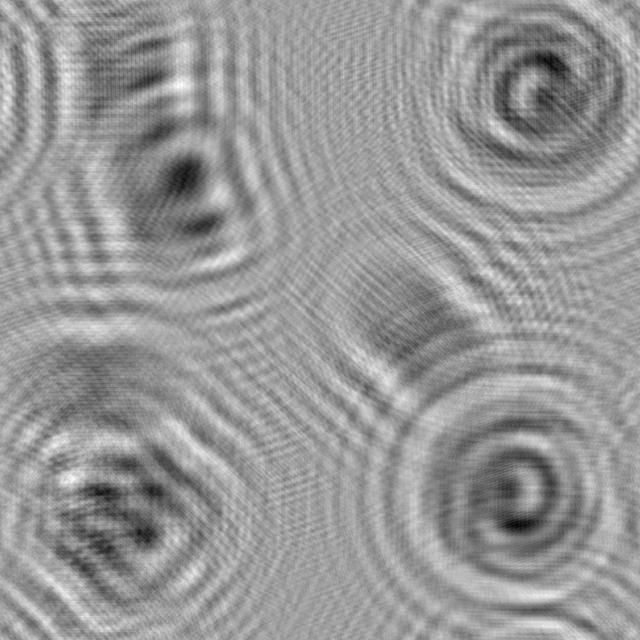F: (41, 76, 311, 329)
G: (363, 361, 640, 640), (404, 0, 640, 227)
H: (0, 393, 266, 640)
I: (273, 201, 540, 471), (0, 277, 249, 475), (0, 0, 211, 187)
